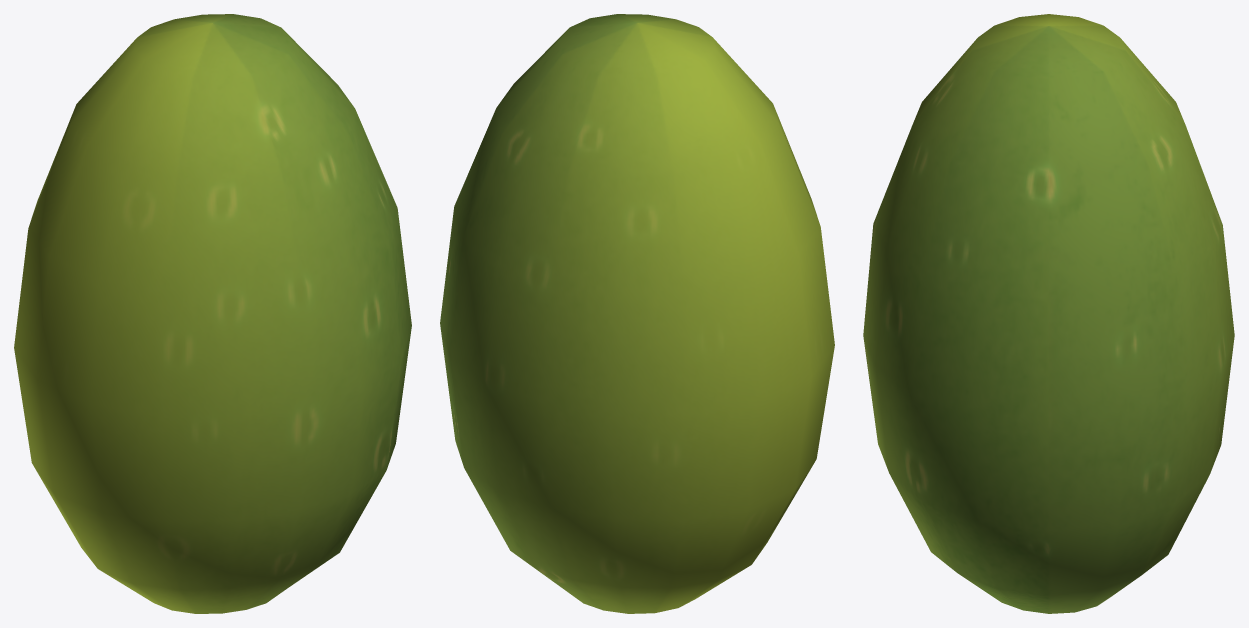
File: bcactus7.fbx
3 views of the same model, side by side, from view 1: azimuth 30°, elevation 25°; view 2: azimuth 150°, elevation 25°; view 3: azimuth 270°, elevation 25° (orthographic).
Visible parts, largest first — view 1: cactus3_low; view 2: cactus3_low; view 3: cactus3_low.
Part boxes in pixels (left/top/right/bottom): cactus3_low: left=14, top=14, right=411, bottom=613; cactus3_low: left=440, top=14, right=834, bottom=613; cactus3_low: left=863, top=14, right=1234, bottom=613.
Bounding box in the file's own units: 65.73 × 60.92 × 102.
